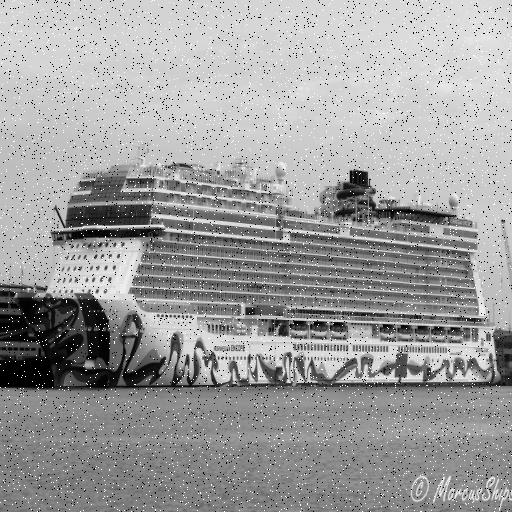cruises: (14, 139, 504, 398)
